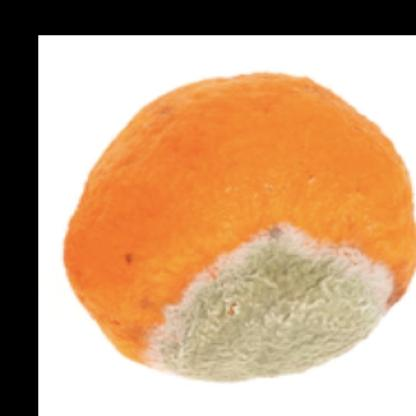rotten: (68, 74, 416, 376)
